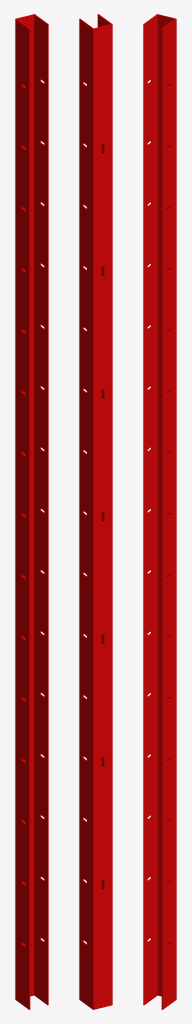
The picture shows the model from 3 angles, left to right: view 1: azimuth 30°, elevation 25°; view 2: azimuth 210°, elevation 25°; view 3: azimuth 330°, elevation 25°; orthographic projection.
Visible parts, largest first — view 1: Sp-2X8; view 2: Sp-2X8; view 3: Sp-2X8.
Boxes of the visible parts, x1,y1,x2,y2 form: Sp-2X8: [15, 14, 48, 1009]; Sp-2X8: [79, 14, 112, 1009]; Sp-2X8: [143, 14, 176, 1009].
Size of the model in its own units: 2 by 96 by 2.5.
